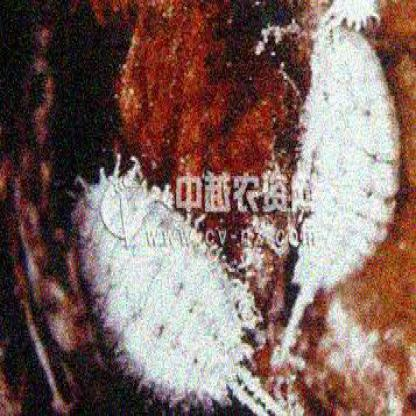mealy bug: (80, 173, 265, 413), (278, 25, 401, 362)
